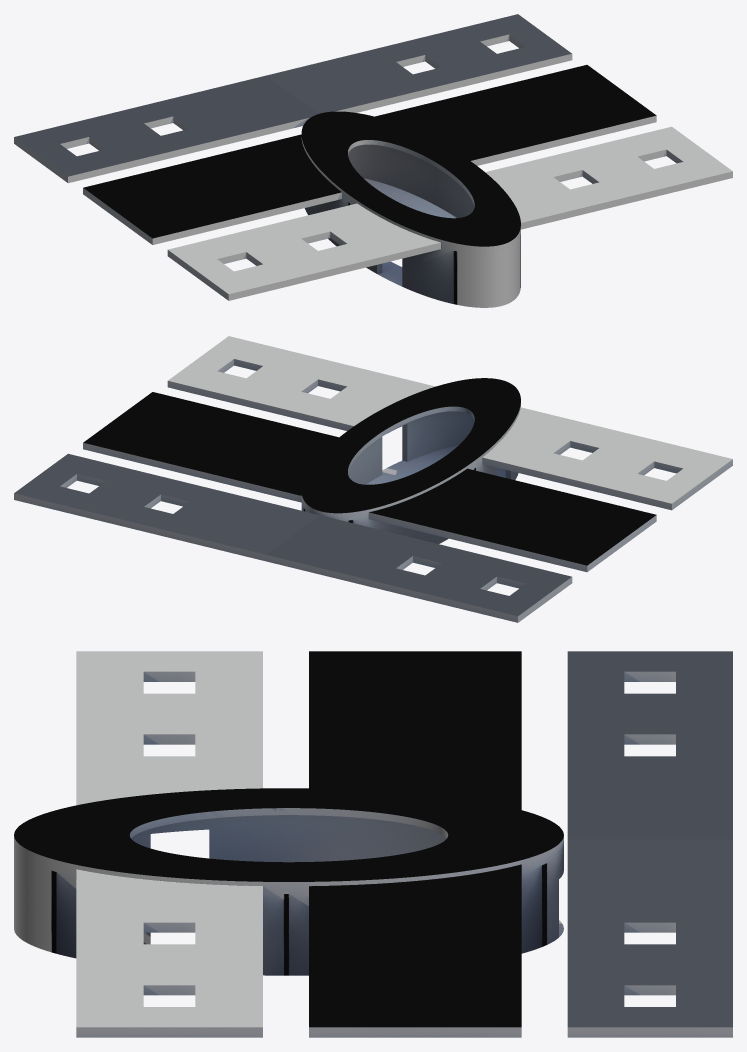
File: nine.glb
3 views of the same model, one above another, from view 1: azimuth 30°, elevation 25°; view 2: azimuth 150°, elevation 25°; view 3: azimuth 270°, elevation 25° (orthographic). The views are drawn at different scales.
Visible parts, largest first — view 1: ceiling2_L, ceiling3_L, ceiling2_R, ceiling3_R, ceiling1_L, center_ceiling, ceiling1_R, center_walls, center_floor; view 2: ceiling2_L, ceiling3_L, ceiling2_R, ceiling3_R, ceiling1_L, center_ceiling, ceiling1_R, center_walls, center_floor; view 3: ceiling2_R, center_ceiling, ceiling3_R, ceiling2_L, ceiling3_L, ceiling1_R, ceiling1_L, center_walls.
Part boxes in pixels (left/top/right/bottom): ceiling2_L: left=83, top=134, right=341, bottom=244; ceiling3_L: left=14, top=75, right=317, bottom=183; ceiling2_R: left=375, top=65, right=656, bottom=165; ceiling3_R: left=266, top=14, right=572, bottom=113; ceiling1_L: left=167, top=203, right=440, bottom=300; center_ceiling: left=301, top=111, right=520, bottom=251; ceiling1_R: left=485, top=126, right=732, bottom=229; center_walls: left=304, top=144, right=520, bottom=307; center_floor: left=364, top=178, right=456, bottom=286; ceiling2_L: left=368, top=468, right=656, bottom=572; ceiling3_L: left=266, top=515, right=572, bottom=622; ceiling2_R: left=83, top=392, right=338, bottom=502; ceiling3_R: left=14, top=453, right=319, bottom=561; ceiling1_L: left=482, top=407, right=732, bottom=510; center_ceiling: left=301, top=378, right=520, bottom=517; ceiling1_R: left=167, top=336, right=435, bottom=430; center_walls: left=301, top=411, right=518, bottom=543; center_floor: left=366, top=445, right=505, bottom=484; ceiling2_R: left=309, top=864, right=521, bottom=1037; center_ceiling: left=14, top=788, right=563, bottom=888; ceiling3_R: left=567, top=839, right=732, bottom=1037; ceiling2_L: left=309, top=651, right=521, bottom=809; ceiling3_L: left=567, top=651, right=732, bottom=839; ceiling1_R: left=76, top=869, right=262, bottom=1037; ceiling1_L: left=76, top=651, right=262, bottom=805; center_walls: left=14, top=815, right=563, bottom=975.
Size of the model in its own units: 34.47 by 4.17 by 27.85.
Materials: 9 (9 with a texture image).
